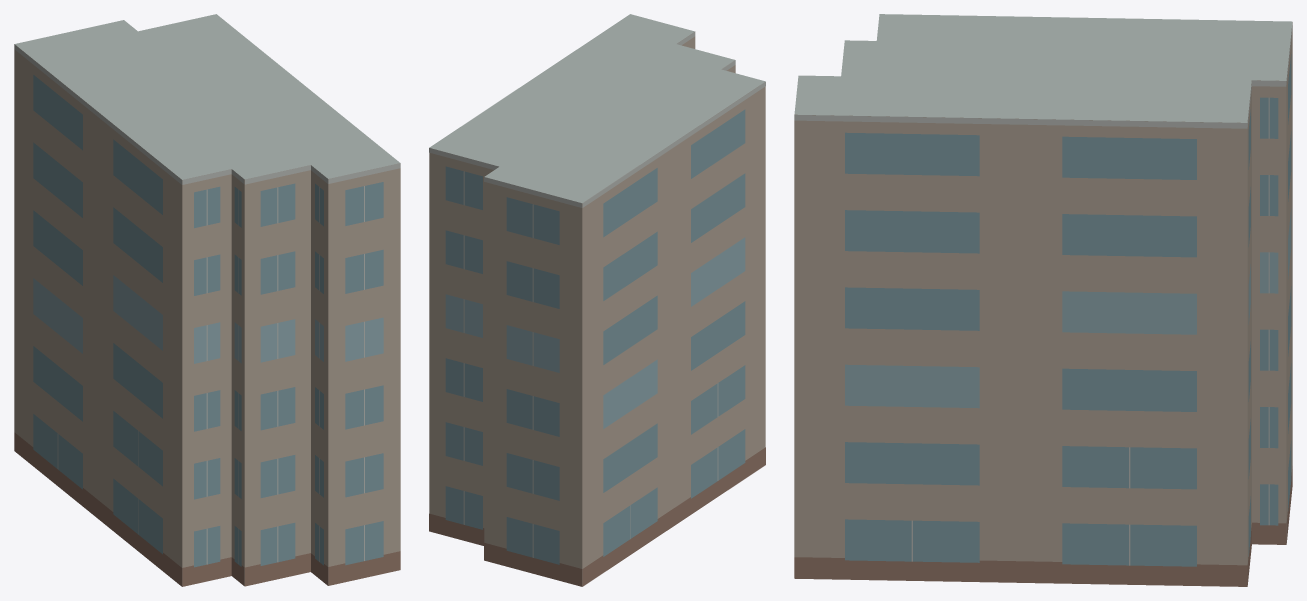
Rendered from survey-upis-32663283.glb.
The picture shows the model from 3 angles, left to right: view 1: azimuth 30°, elevation 25°; view 2: azimuth 150°, elevation 25°; view 3: azimuth 270°, elevation 25°; orthographic projection. The views are drawn at different scales.
Parts seen in each view (by area): view 1: survey-upis-32663283.tmp; view 2: survey-upis-32663283.tmp; view 3: survey-upis-32663283.tmp.
Part boxes in pixels (x1=…): survey-upis-32663283.tmp: x1=14, y1=14, x2=400, y2=586; survey-upis-32663283.tmp: x1=429, y1=14, x2=765, y2=586; survey-upis-32663283.tmp: x1=794, y1=14, x2=1292, y2=586.
Bounding box in the file's own units: 9.73 × 19.3 × 18.79.
